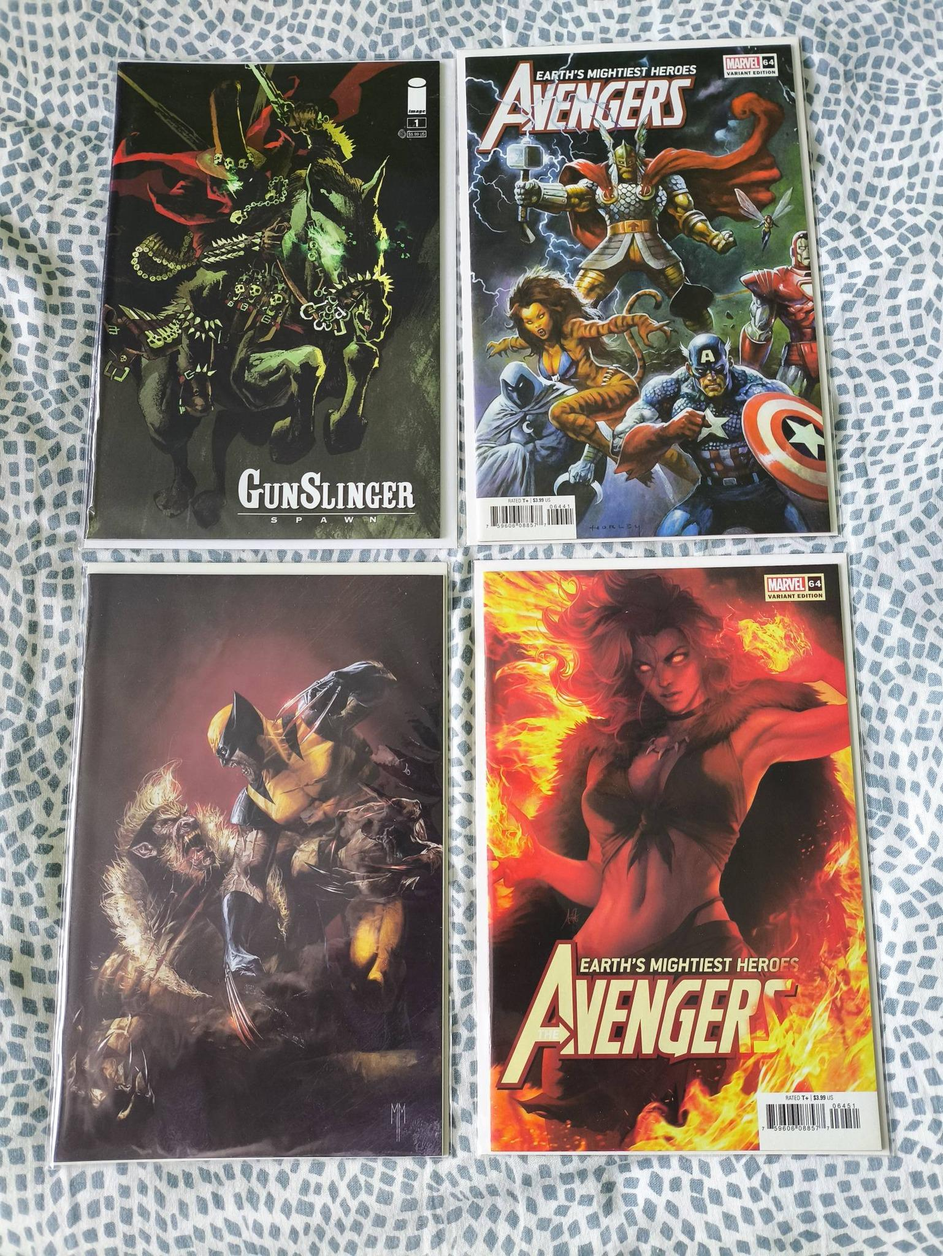comic: (471, 556, 882, 1156), (52, 564, 446, 1161), (451, 37, 835, 546), (88, 61, 453, 546)
